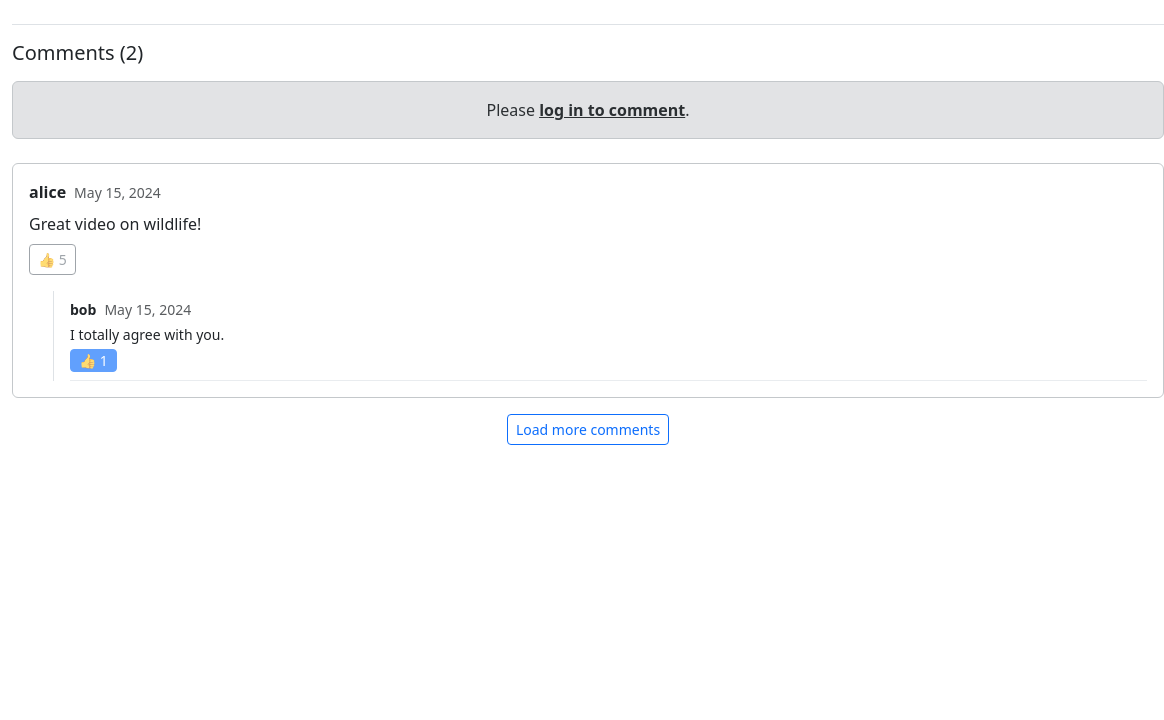
Test: CommentSection › loads more comments when "Load more comments" is clicked
The width and height of the screenshot is (1164, 720).
Step 1. Click the button "Load more comments" → (588, 430), box left=507, top=414, right=669, bottom=445
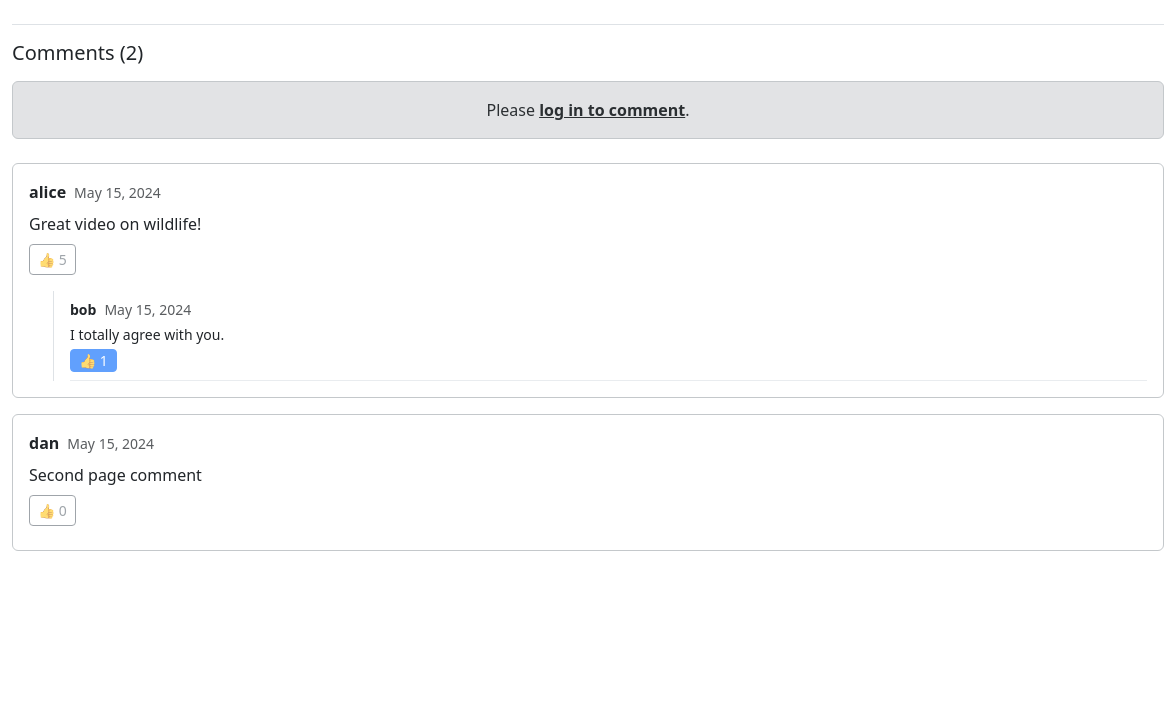
Check: the text "Second page comment" is shown, box left=29, top=464, right=202, bottom=486
Check: the button "Load more comments" is gone
